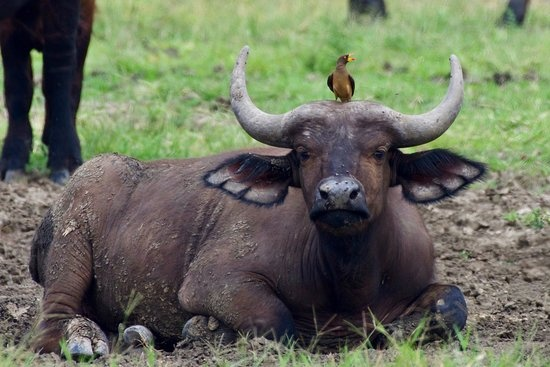bird: (324, 50, 361, 102)
buffalo: (19, 42, 494, 367)
